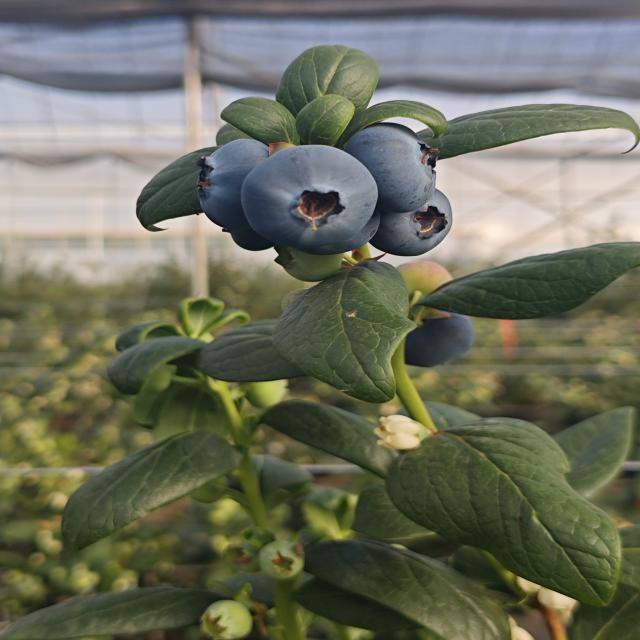ripe: (237, 139, 383, 257), (192, 136, 286, 251), (341, 116, 448, 215), (363, 182, 457, 260), (396, 306, 480, 373)
